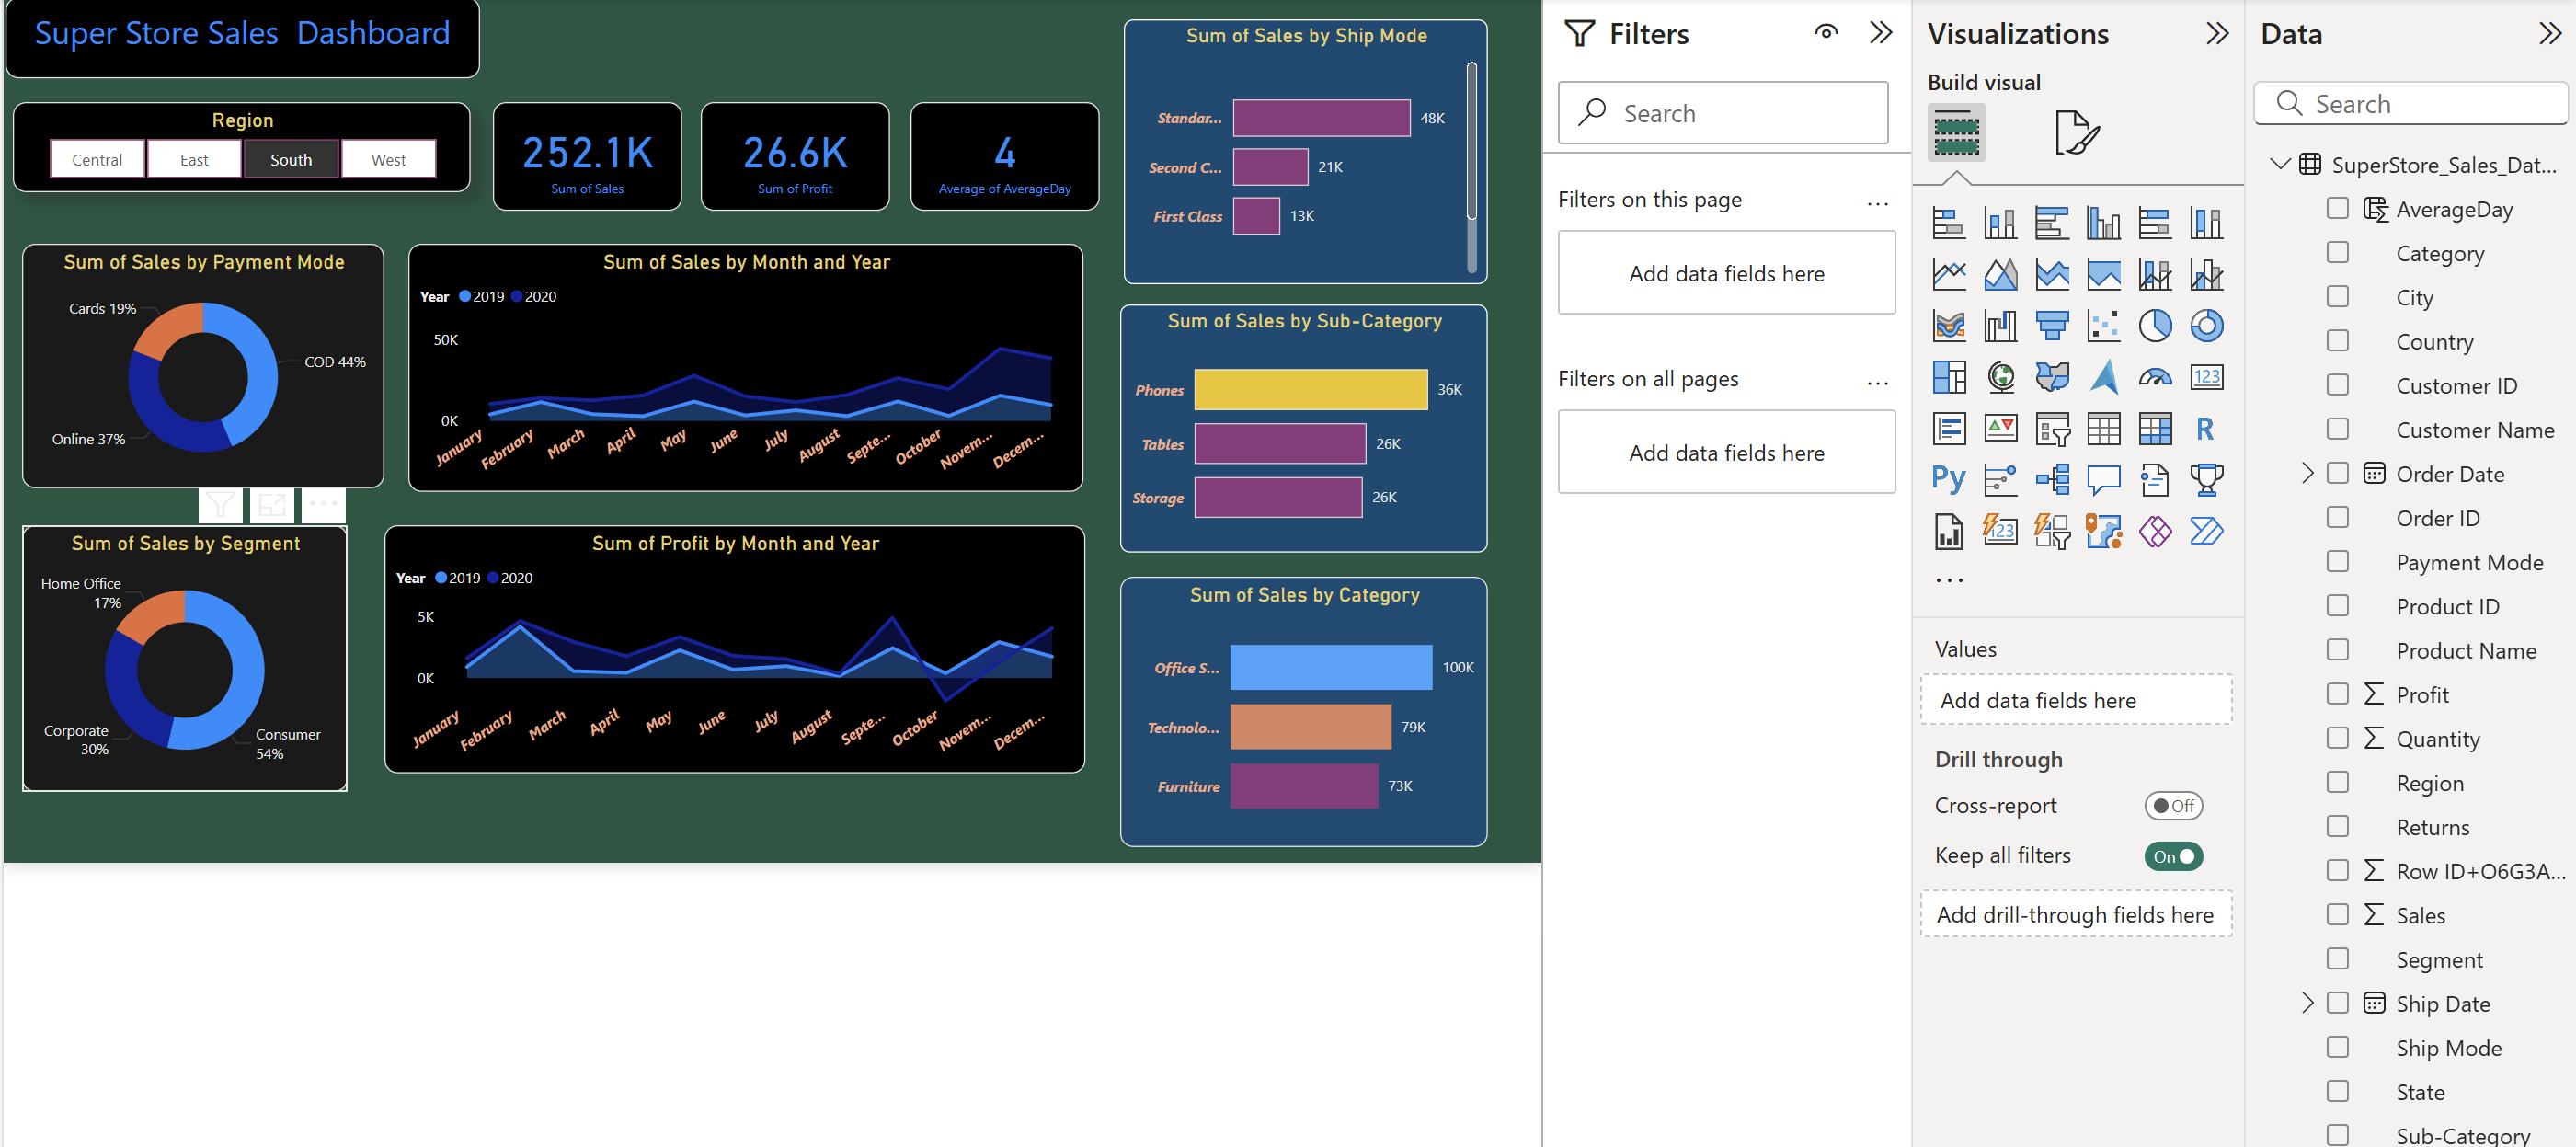

The dashboard page shown, as its layout file describes it:
{"tool":"powerbi","page":{"name":"Page 1","canvas":[1280,720],"ordinal":0},"visuals":[{"type":"clusteredBarChart","fields":{"Category":["SuperStore_Sales_Dataset.Category"],"Y":["Sum(SuperStore_Sales_Dataset.Sales)"]},"box":[929.4,482.3,306.2,225.1],"z":0},{"type":"clusteredBarChart","fields":{"Category":["SuperStore_Sales_Dataset.Sub-Category"],"Y":["Sum(SuperStore_Sales_Dataset.Sales)"]},"box":[929.4,255.7,306.2,206.7],"z":1000},{"type":"clusteredBarChart","fields":{"Category":["SuperStore_Sales_Dataset.Ship Mode"],"Y":["Sum(SuperStore_Sales_Dataset.Sales)"]},"box":[932.4,18.4,303.2,220.5],"z":2000},{"type":"stackedAreaChart","fields":{"Y":["Sum(SuperStore_Sales_Dataset.Sales)"],"Series":["SuperStore_Sales_Dataset.Order Date.Variation.Date Hierarchy.Year"],"Category":["SuperStore_Sales_Dataset.Order Date.Variation.Date Hierarchy.Month","SuperStore_Sales_Dataset.Order Date.Variation.Date Hierarchy.Day"]},"box":[336.8,205.2,561.9,206.7],"z":3000},{"type":"stackedAreaChart","fields":{"Series":["SuperStore_Sales_Dataset.Order Date.Variation.Date Hierarchy.Year"],"Category":["SuperStore_Sales_Dataset.Order Date.Variation.Date Hierarchy.Month","SuperStore_Sales_Dataset.Order Date.Variation.Date Hierarchy.Day"],"Y":["Sum(SuperStore_Sales_Dataset.Profit)"]},"box":[316.9,439.4,583.3,206.7],"z":4000},{"type":"donutChart","fields":{"Category":["SuperStore_Sales_Dataset.Segment"],"Y":["Sum(SuperStore_Sales_Dataset.Sales)"]},"box":[15.3,439.4,271,222],"z":5000},{"type":"donutChart","fields":{"Category":["SuperStore_Sales_Dataset.Payment Mode"],"Y":["Sum(SuperStore_Sales_Dataset.Sales)"]},"box":[15.3,205.2,301.6,203.6],"z":6000},{"type":"slicer","title":"Region","fields":{"Values":["SuperStore_Sales_Dataset.Region"]},"box":[7.7,87.3,381.2,75],"z":7000},{"type":"textbox","box":[1.5,0,395,67.4],"z":8000},{"type":"card","fields":{"Values":["Sum(SuperStore_Sales_Dataset.Sales)"]},"box":[407.3,87.3,157.7,90.3],"z":9000},{"type":"card","fields":{"Values":["Sum(SuperStore_Sales_Dataset.Profit)"]},"box":[580.3,87.3,157.7,90.3],"z":10000},{"type":"card","fields":{"Values":["Avg(SuperStore_Sales_Dataset.AverageDay)"]},"box":[754.8,87.3,157.7,90.3],"z":11000}]}

Visuals, with their boxes on the page's 1280x720 design canvas (x1, y1, x2, y2). These are canvas units, not pixel positions in the 2576x1147 screenshot, which may show the page scaled, cropped or inside an application window:
clusteredBarChart - SuperStore_Sales_Dataset.Category x Sum(SuperStore_Sales_Dataset.Sales): x1=929, y1=482, x2=1236, y2=707
clusteredBarChart - SuperStore_Sales_Dataset.Sub-Category x Sum(SuperStore_Sales_Dataset.Sales): x1=929, y1=256, x2=1236, y2=462
clusteredBarChart - SuperStore_Sales_Dataset.Ship Mode x Sum(SuperStore_Sales_Dataset.Sales): x1=932, y1=18, x2=1236, y2=239
stackedAreaChart - Sum(SuperStore_Sales_Dataset.Sales) x SuperStore_Sales_Dataset.Order Date.Variation.Date Hierarchy.Year: x1=337, y1=205, x2=899, y2=412
stackedAreaChart - SuperStore_Sales_Dataset.Order Date.Variation.Date Hierarchy.Year x SuperStore_Sales_Dataset.Order Date.Variation.Date Hierarchy.Month: x1=317, y1=439, x2=900, y2=646
donutChart - SuperStore_Sales_Dataset.Segment x Sum(SuperStore_Sales_Dataset.Sales): x1=15, y1=439, x2=286, y2=661
donutChart - SuperStore_Sales_Dataset.Payment Mode x Sum(SuperStore_Sales_Dataset.Sales): x1=15, y1=205, x2=317, y2=409
"Region" slicer: x1=8, y1=87, x2=389, y2=162
textbox: x1=2, y1=0, x2=396, y2=67
card - Sum(SuperStore_Sales_Dataset.Sales): x1=407, y1=87, x2=565, y2=178
card - Sum(SuperStore_Sales_Dataset.Profit): x1=580, y1=87, x2=738, y2=178
card - Avg(SuperStore_Sales_Dataset.AverageDay): x1=755, y1=87, x2=912, y2=178
